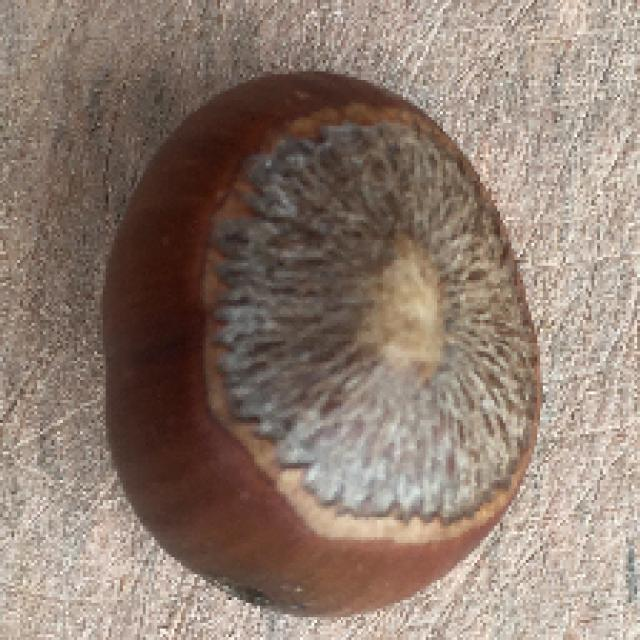DamagedHazelnut: (101, 69, 550, 616)
